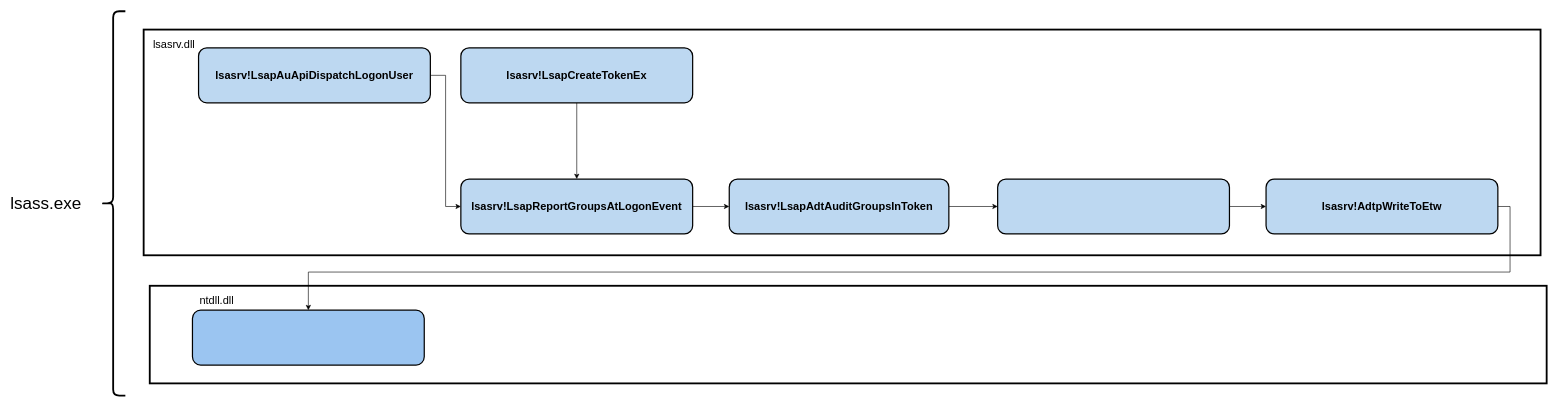
This 1558x407 diagram has some shape labels left out. The shapes that lost their labels are listed below. From the top down, each one's centre as x and y in pixels, then its label:
At (1113,206): "lsasrv!LsapAdtWriteLogEx".
At (308,337): "ntdll!EtwWriteUMSecurityEvent".
